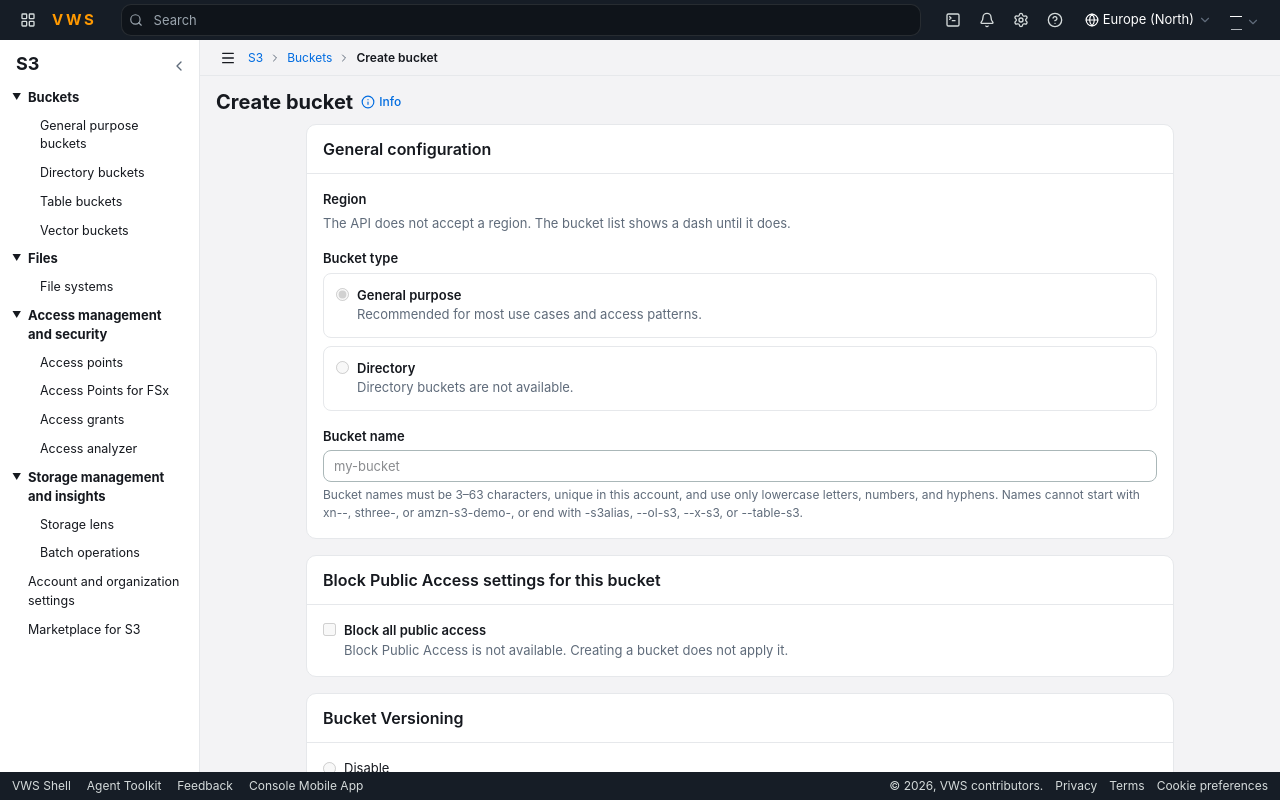
Scenario: CreateBucketView › shows the AWS already-owned error and stays on the page
Type "vws-logs" into the field with placeholder "my-bucket" at (740, 466), box [323, 450, 1157, 482]
(page scrolled)
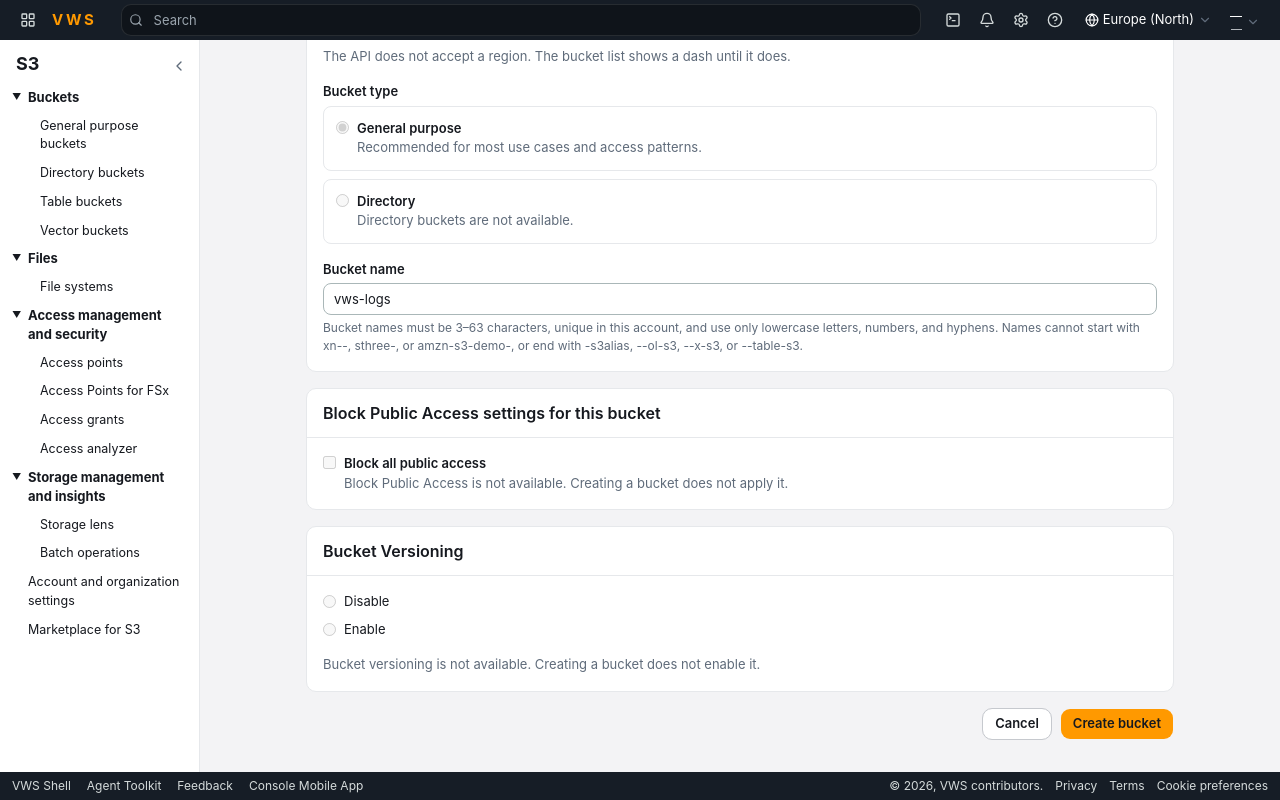
Click the button "Create bucket" at (1117, 724), box [1060, 708, 1174, 740]
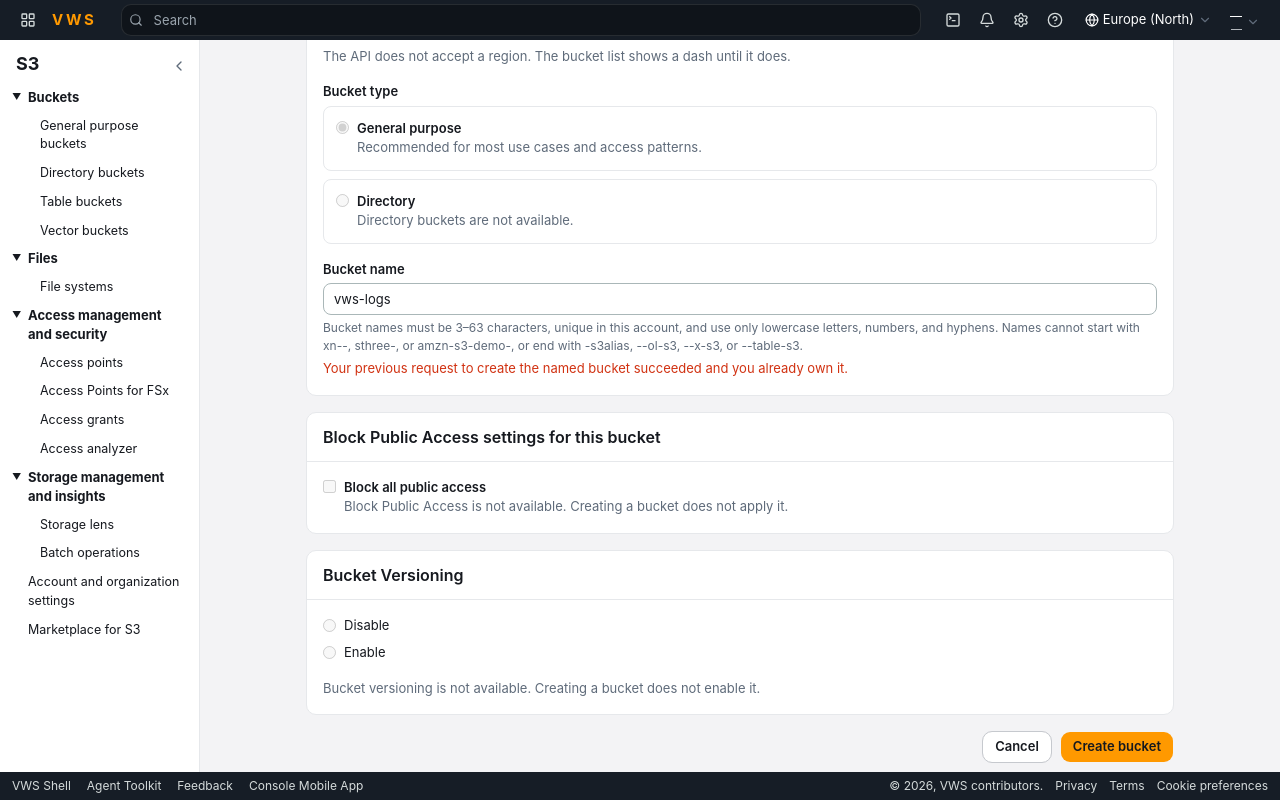
Expected: the message shows "you already own it", [323, 360, 848, 376]
